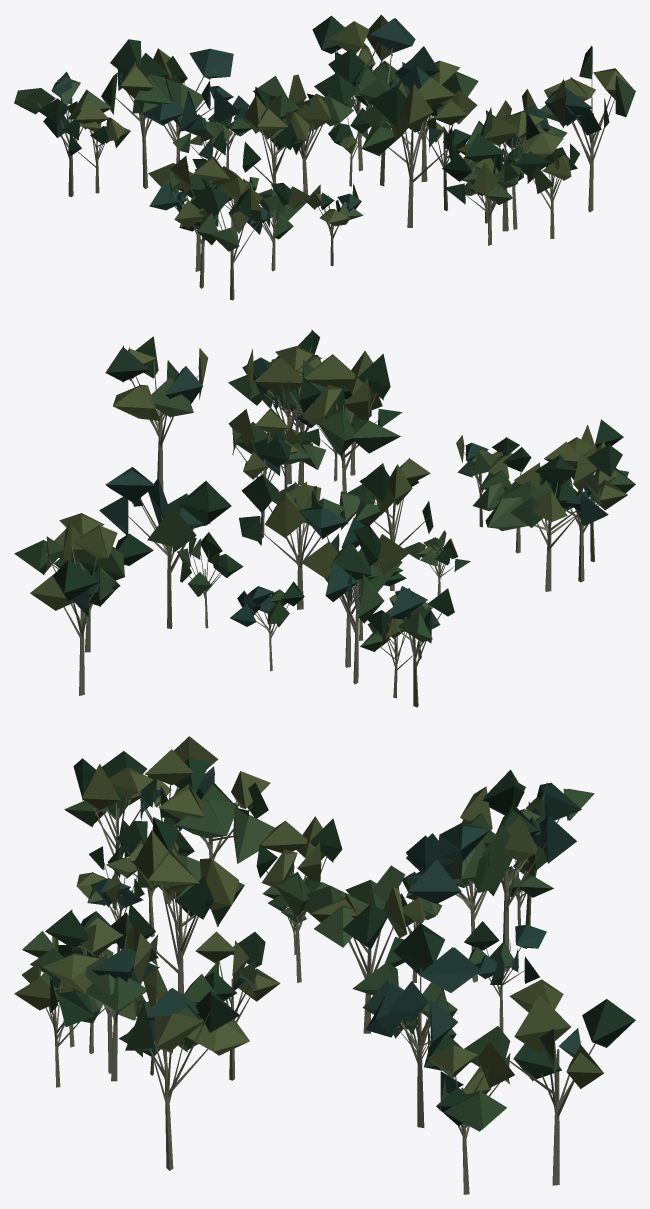
Rendered from forest_20_24.dae.
3 views of the same model, one above another, from view 1: azimuth 30°, elevation 25°; view 2: azimuth 150°, elevation 25°; view 3: azimuth 270°, elevation 25° (orthographic). The views are drawn at different scales.
Parts seen in each view (by area): view 1: Node; view 2: Node; view 3: Node.
Boxes of the visible parts, x1,y1,x2,y2 form: Node: [14, 14, 635, 300]; Node: [14, 329, 635, 707]; Node: [14, 736, 635, 1194].
Size of the model in its own units: 11.75 by 10.62 by 5.51.
